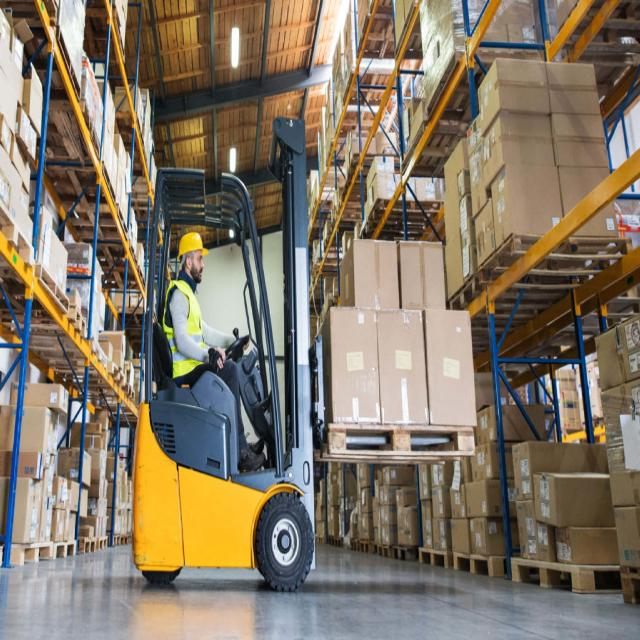Person: (164, 232, 265, 472)
